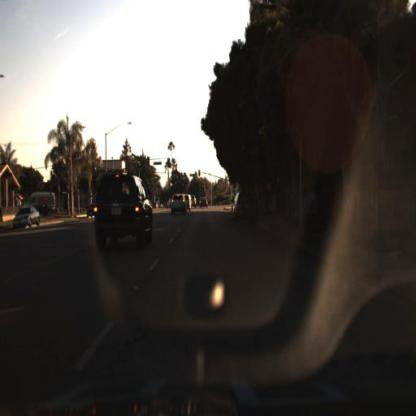car: (91, 168, 154, 251), (8, 202, 42, 230), (231, 192, 258, 224), (34, 199, 61, 220), (13, 206, 41, 226), (23, 191, 57, 206), (171, 193, 190, 214), (31, 201, 58, 214), (198, 196, 209, 208), (198, 196, 208, 209)
truck: (27, 189, 57, 220)
